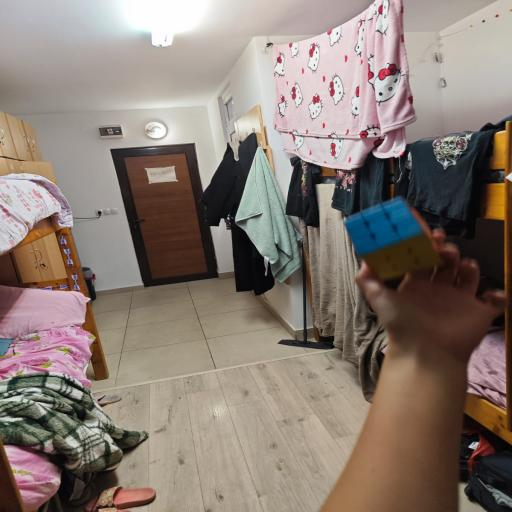Rubiks Cube: (342, 196, 444, 283)
